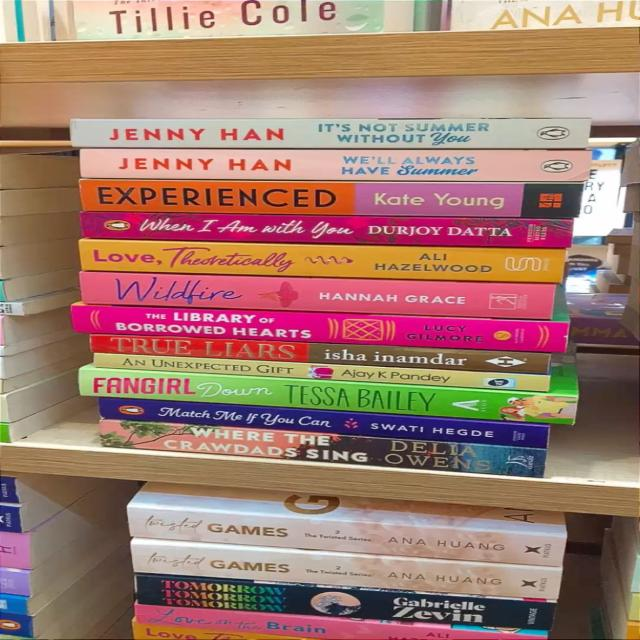book: (79, 363, 578, 425), (100, 421, 547, 477), (71, 303, 566, 353), (97, 398, 549, 449), (80, 272, 557, 320), (79, 239, 566, 283), (80, 179, 583, 218), (80, 212, 573, 248), (91, 336, 550, 374), (95, 353, 550, 391), (81, 149, 590, 182), (70, 118, 590, 149)
